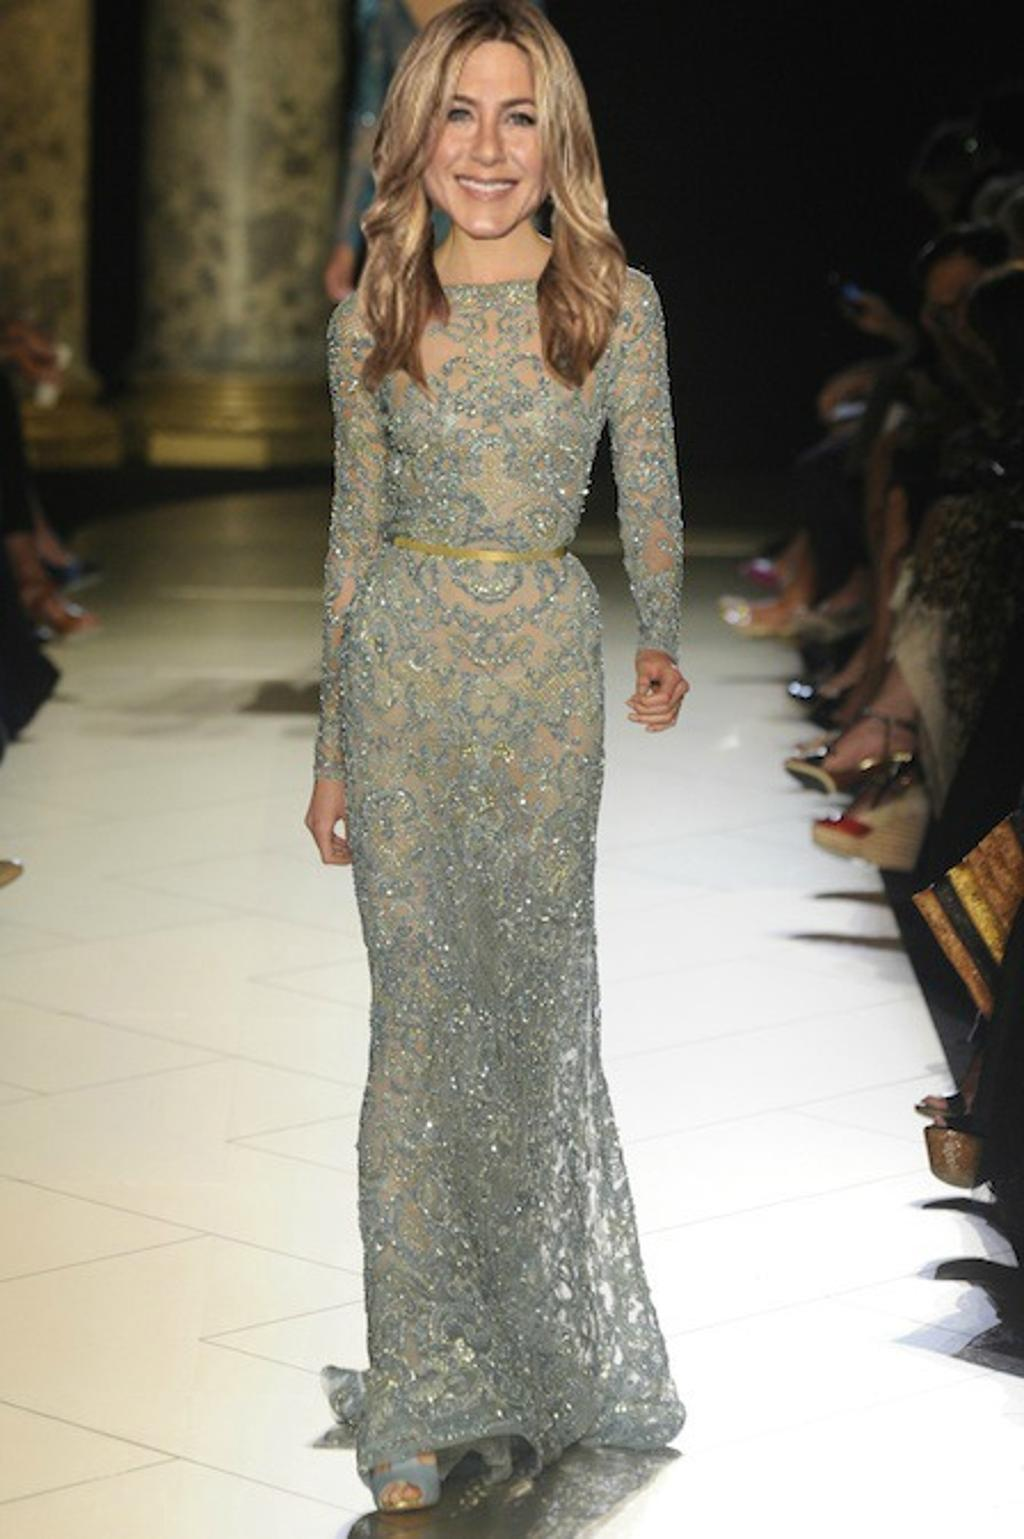face: (414, 51, 549, 237)
